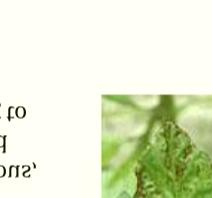Tomato leaf bacterial spot: (130, 110, 212, 198)
